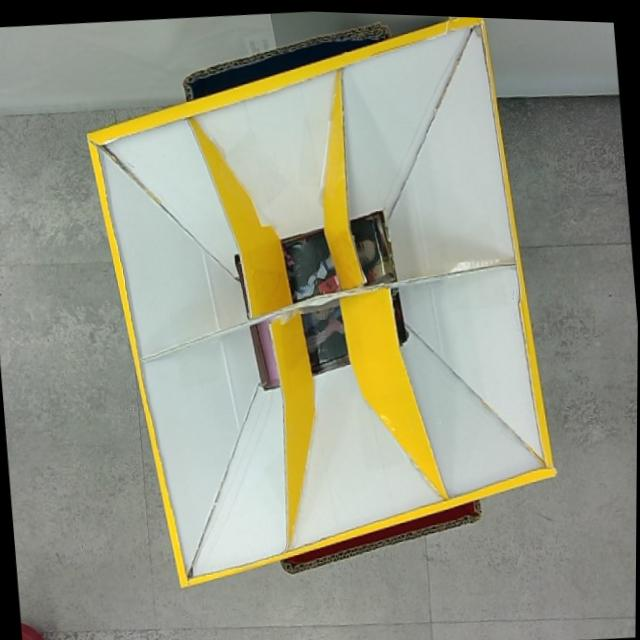box: (74, 2, 568, 604)
